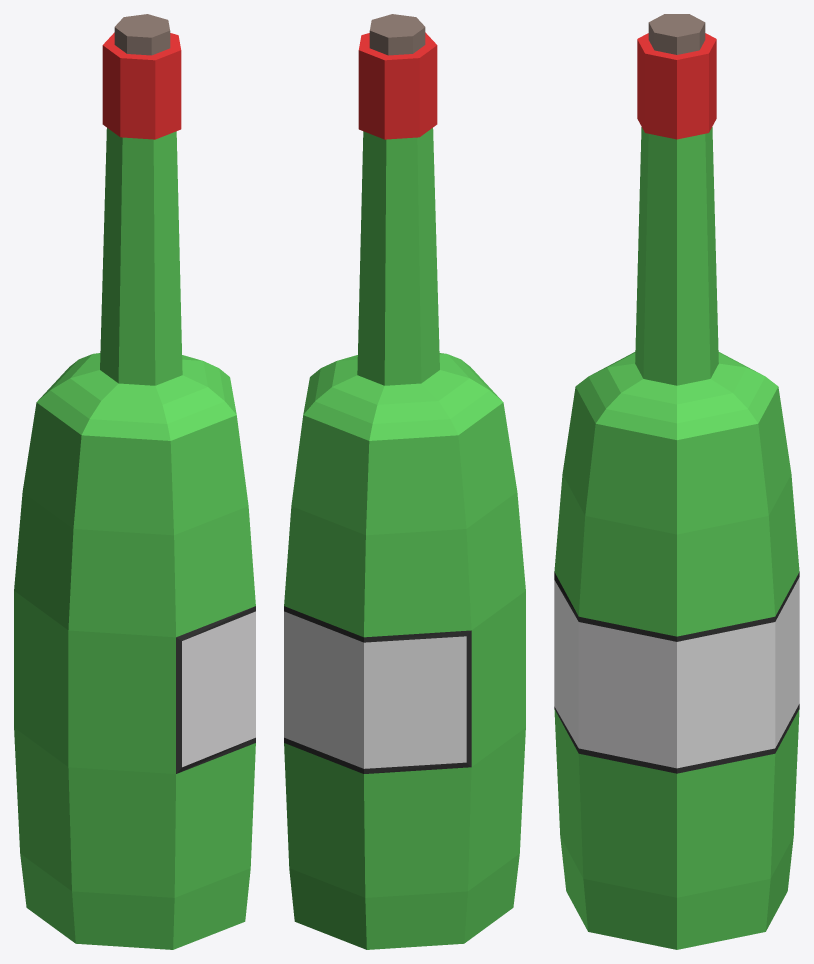
File: Wine_Bottle.fbx
The picture shows the model from 3 angles, left to right: view 1: azimuth 30°, elevation 25°; view 2: azimuth 150°, elevation 25°; view 3: azimuth 270°, elevation 25°; orthographic projection.
Visible parts, largest first — view 1: Wine_Bottle; view 2: Wine_Bottle; view 3: Wine_Bottle.
Part boxes in pixels (x1,y1,x2,y2): Wine_Bottle: [14, 14, 255, 949]; Wine_Bottle: [284, 14, 525, 949]; Wine_Bottle: [554, 14, 799, 949].
Bounding box in the file's own units: 17.41 × 70.65 × 17.86.
